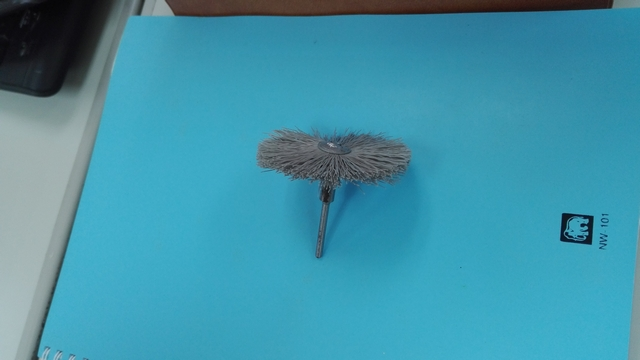TOOL: (220, 98, 425, 294), (268, 90, 464, 280), (233, 107, 395, 285)
